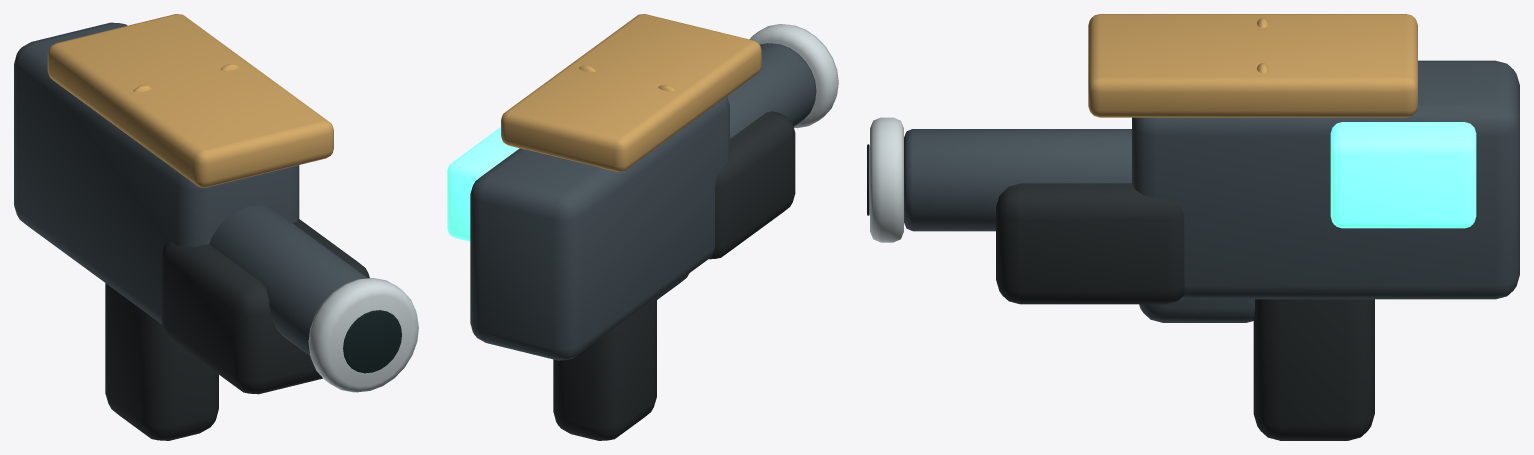
The model's file is shotgun_tight.t4.glb.
3 renders of one model, left to right at view 1: azimuth 30°, elevation 25°; view 2: azimuth 150°, elevation 25°; view 3: azimuth 270°, elevation 25°, orthographic. The views are drawn at different scales.
Visible parts, largest first — view 1: weapon_right__forged_bluelead_steel__protected, weapon_right__worn_warm_brass__protected, weapon_right__charcoal_rubber__protected, weapon_right__honed_steel_edge__protected, weapon_right__eye_socket__protected; view 2: weapon_right__forged_bluelead_steel__protected, weapon_right__worn_warm_brass__protected, weapon_right__charcoal_rubber__protected, weapon_right__mint_reticle__protected, weapon_right__honed_steel_edge__protected; view 3: weapon_right__forged_bluelead_steel__protected, weapon_right__charcoal_rubber__protected, weapon_right__worn_warm_brass__protected, weapon_right__mint_reticle__protected, weapon_right__honed_steel_edge__protected.
Boxes of the visible parts, x1,y1,x2,y2 form: weapon_right__forged_bluelead_steel__protected: (14, 22, 367, 355); weapon_right__worn_warm_brass__protected: (47, 14, 333, 187); weapon_right__charcoal_rubber__protected: (105, 219, 369, 440); weapon_right__honed_steel_edge__protected: (308, 278, 418, 392); weapon_right__eye_socket__protected: (343, 310, 401, 373); weapon_right__forged_bluelead_steel__protected: (470, 43, 816, 360); weapon_right__worn_warm_brass__protected: (501, 14, 761, 171); weapon_right__charcoal_rubber__protected: (553, 111, 795, 440); weapon_right__mint_reticle__protected: (447, 127, 519, 241); weapon_right__honed_steel_edge__protected: (749, 24, 838, 128); weapon_right__forged_bluelead_steel__protected: (904, 60, 1519, 322); weapon_right__charcoal_rubber__protected: (996, 183, 1374, 440); weapon_right__worn_warm_brass__protected: (1088, 14, 1417, 117); weapon_right__mint_reticle__protected: (1330, 122, 1476, 228); weapon_right__honed_steel_edge__protected: (870, 117, 903, 242).
Bounding box in the file's own units: 0.2279 × 0.4685 × 0.7134.
